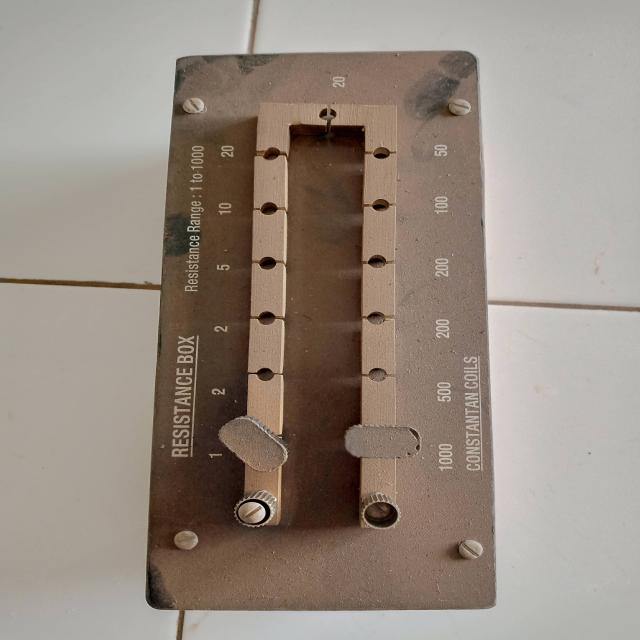Pinned Resistance Box: (125, 36, 510, 622)
